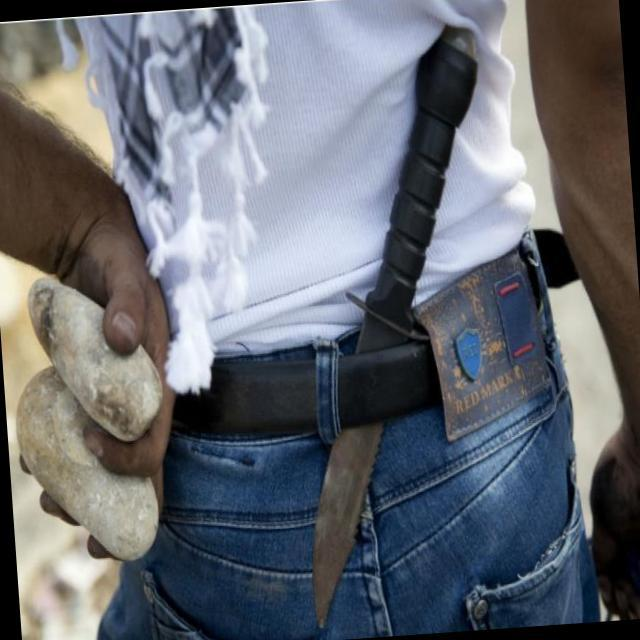Knife: (251, 208, 465, 640)
